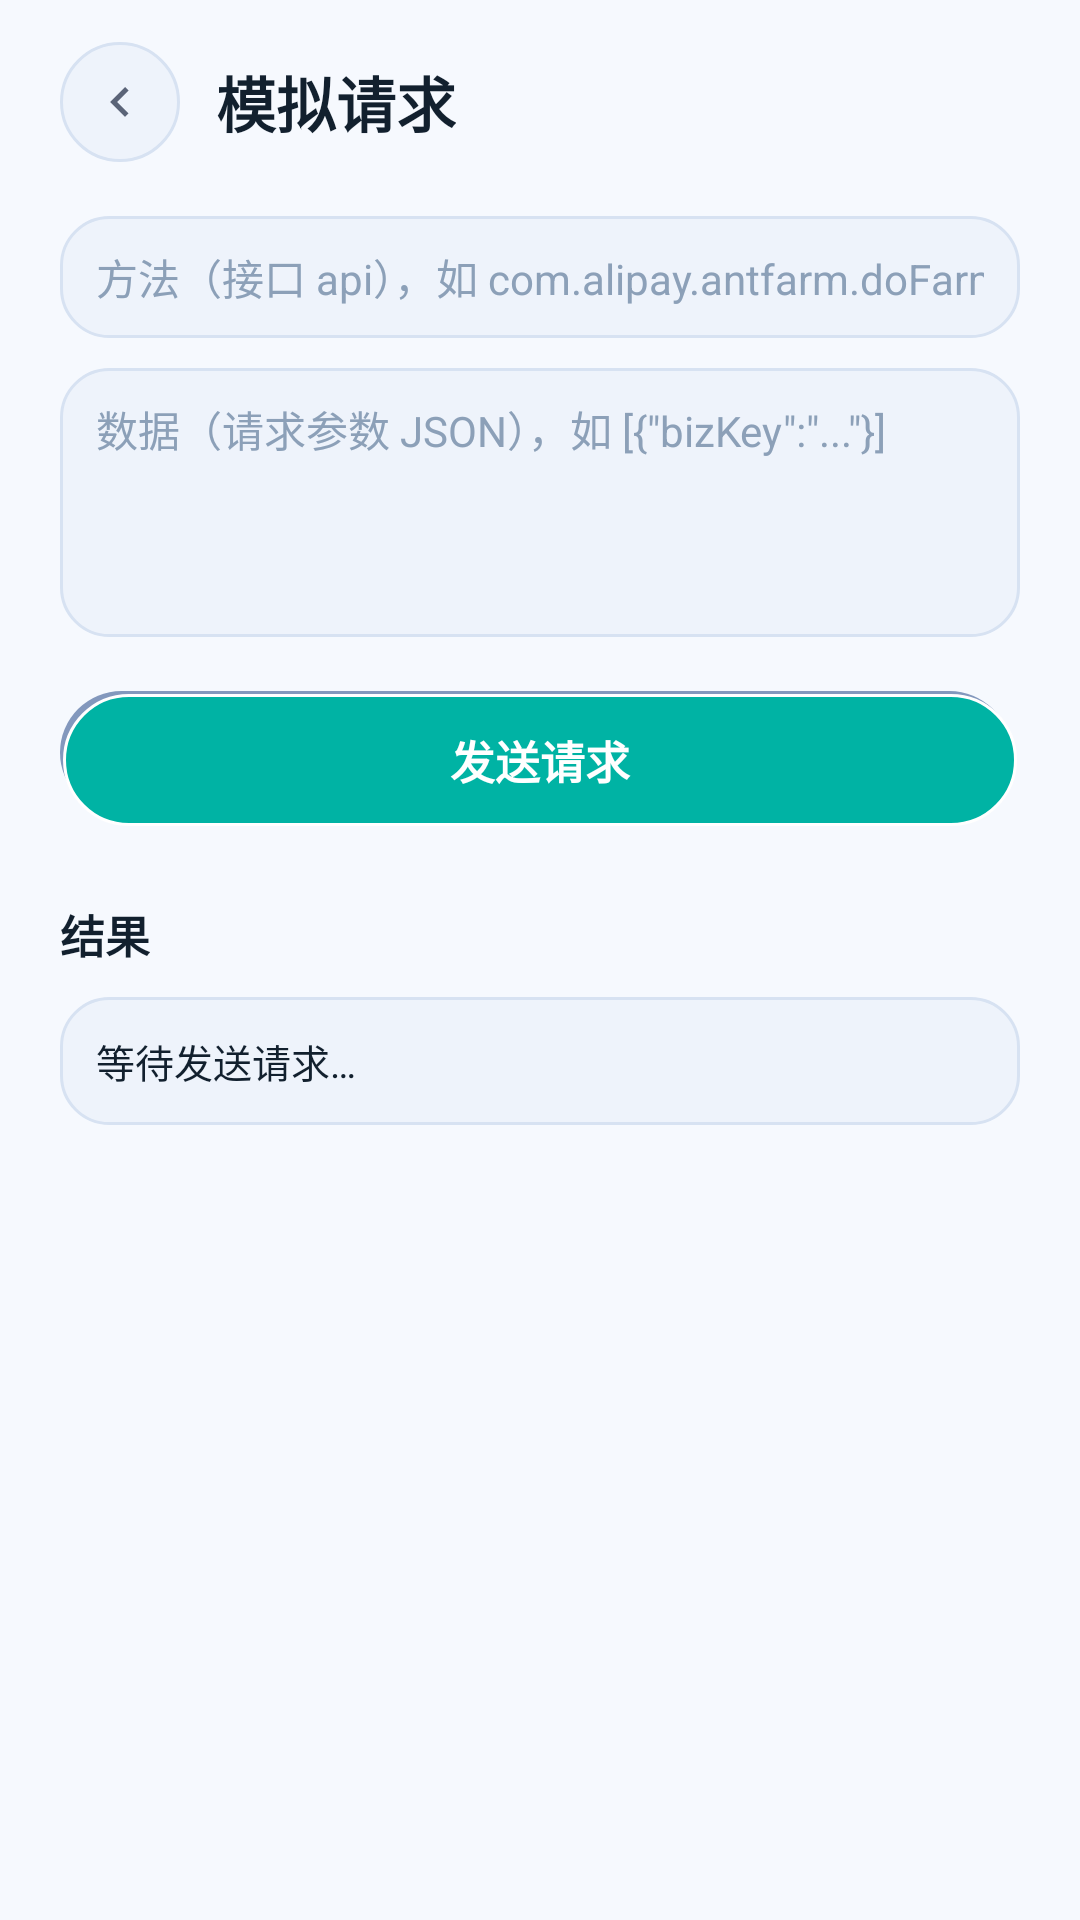

Screen size 1080×1920. Icon name, then its box in pixels as box=[x1, y1, x2, y2]:
neo back: box=[110, 87, 129, 117]
